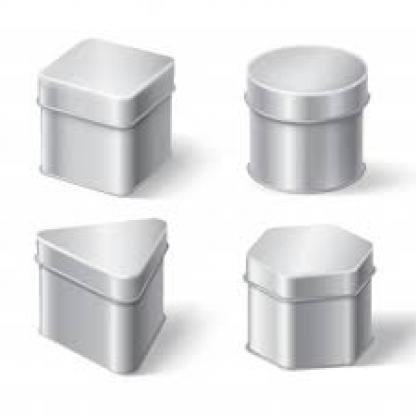METAL: (37, 33, 174, 196), (31, 214, 166, 374), (242, 222, 374, 368), (240, 42, 368, 190)
